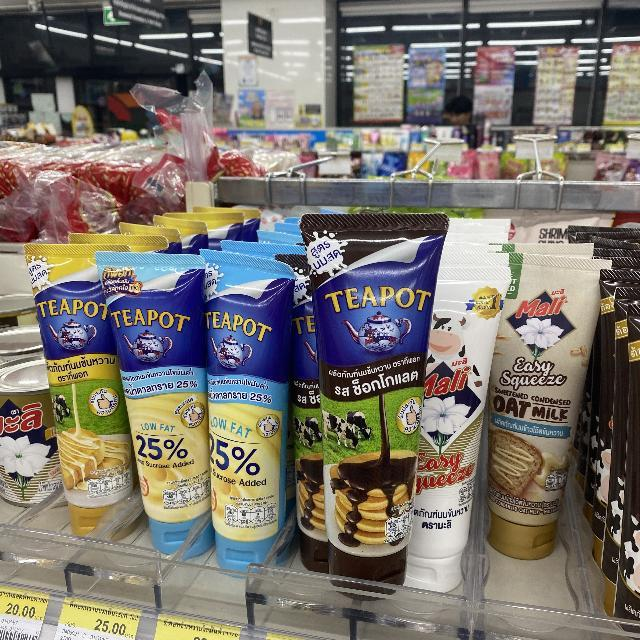Squeeze Tube: (16, 189, 610, 606)
